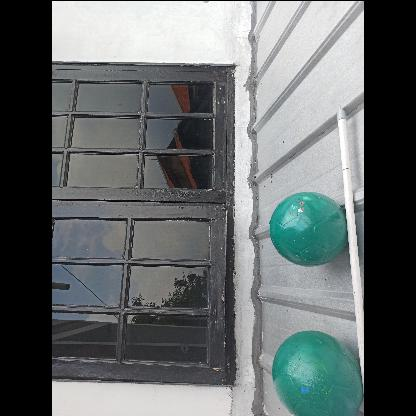green_ball: (268, 330, 362, 416), (270, 190, 348, 266)
